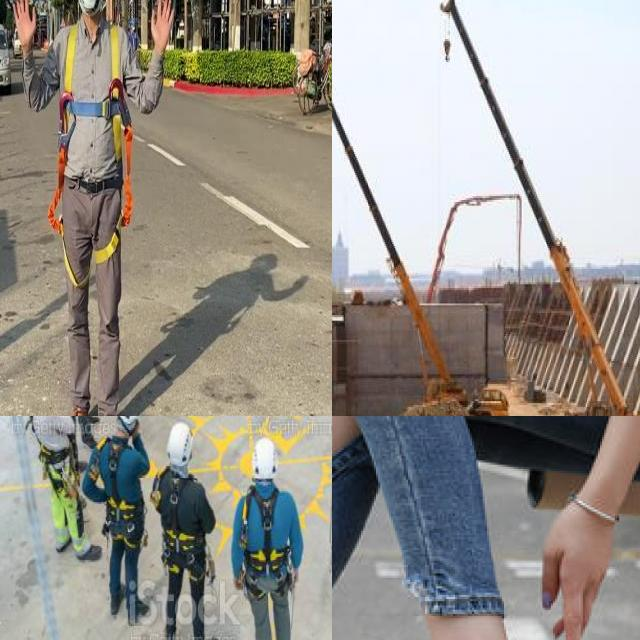Harness: (48, 25, 134, 264), (234, 485, 304, 608), (150, 461, 213, 591), (91, 424, 149, 552), (24, 416, 80, 487)
